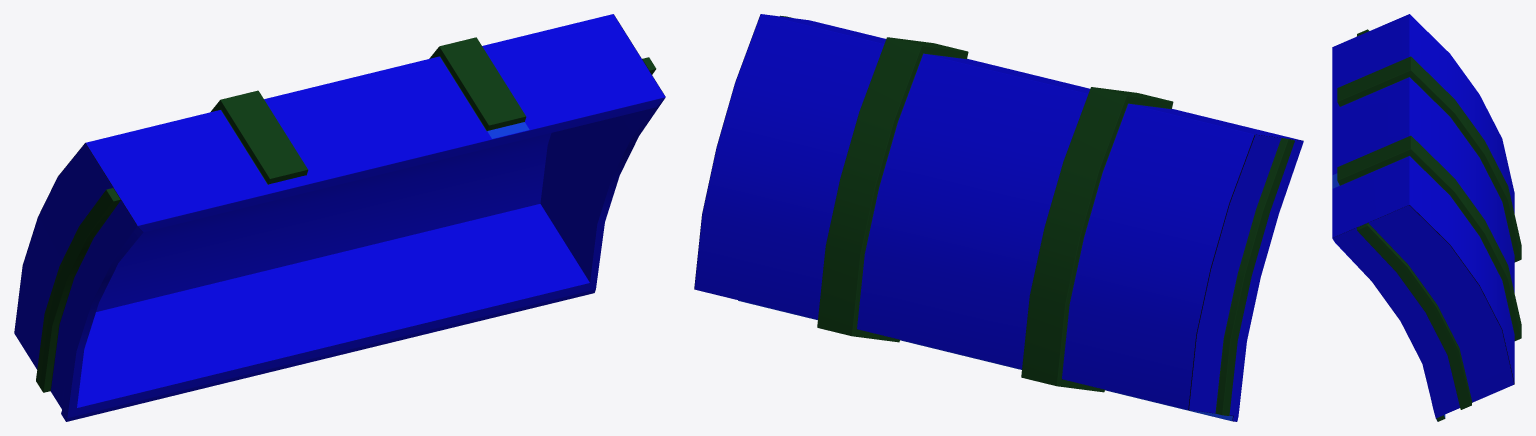
The model's file is ChestLid.fbx.
The picture shows the model from 3 angles, left to right: view 1: azimuth 30°, elevation 25°; view 2: azimuth 150°, elevation 25°; view 3: azimuth 270°, elevation 25°; orthographic projection. The views are drawn at different scales.
Visible parts, largest first — view 1: Chestlid; view 2: Chestlid; view 3: Chestlid.
Boxes of the visible parts, bbox=[...] form: Chestlid: bbox=[14, 14, 665, 421]; Chestlid: bbox=[694, 14, 1303, 421]; Chestlid: bbox=[1332, 14, 1521, 421].
Size of the model in its own units: 2.49 by 1.33 by 1.02.
